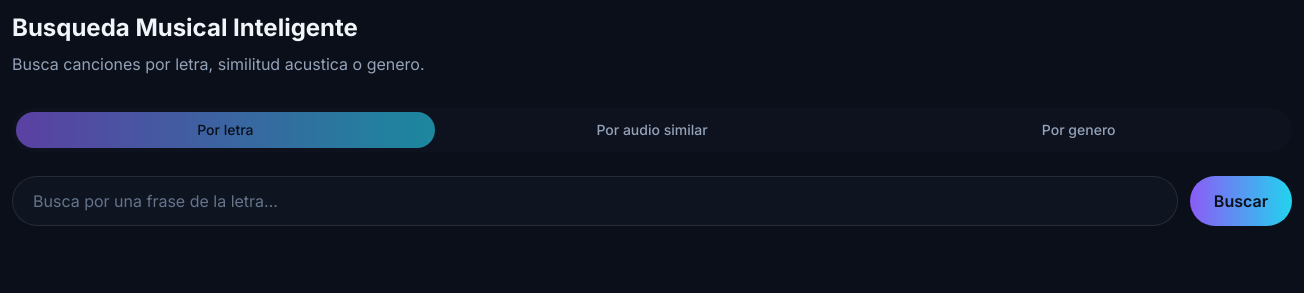
MusicSearchPage › shows a validation error when searching lyrics without text
What coordinates should you click on to do the following:
click the button "Buscar"
I would click on:
 (1241, 201)
Its box is [1190,176,1292,226].
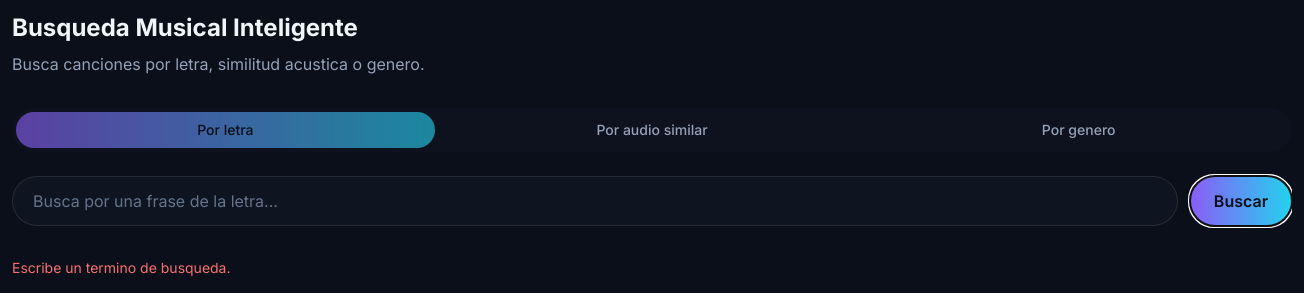
Now the text "Escribe un termino de busqueda." is shown, box [12,259,230,276]
